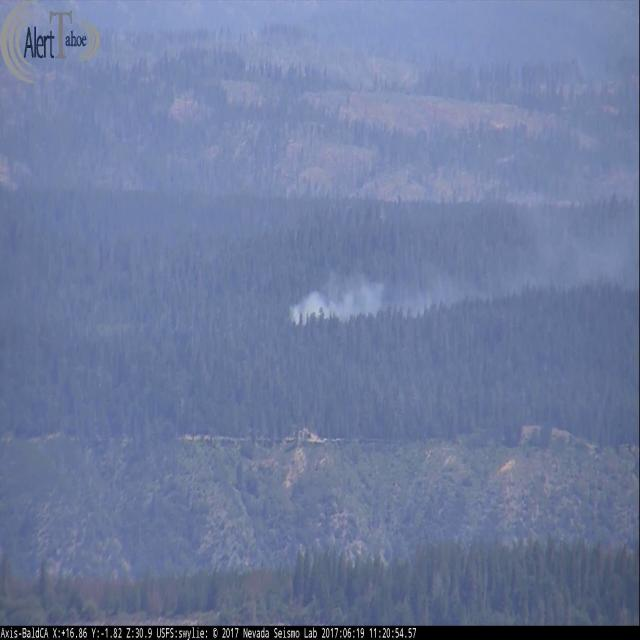smoke: (285, 198, 632, 328)
